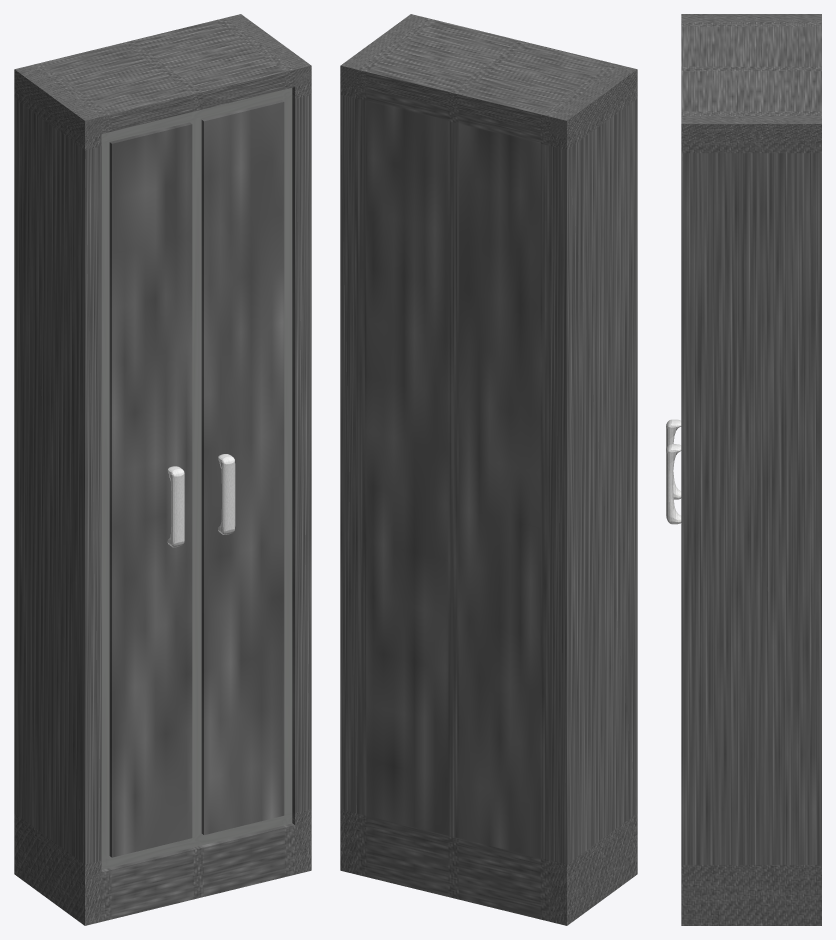
Rendered from ClosetV1.gltf.
3 views of the same model, side by side, from view 1: azimuth 30°, elevation 25°; view 2: azimuth 150°, elevation 25°; view 3: azimuth 270°, elevation 25° (orthographic).
Visible parts, largest first — view 1: Cube, Cube.001, Cube.002; view 2: Cube; view 3: Cube, Cube.001, Cube.002.
Part boxes in pixels (box(x1,y1,x2,y2)): Cube: box(14, 14, 311, 925); Cube.001: box(218, 454, 235, 534); Cube.002: box(167, 466, 184, 547); Cube: box(340, 14, 637, 925); Cube: box(681, 14, 821, 925); Cube.001: box(666, 444, 681, 524); Cube.002: box(666, 419, 681, 499).
Bounding box in the file's own units: 0.5 × 1.7 × 0.2989.
Materials: 1 (1 with a texture image).
